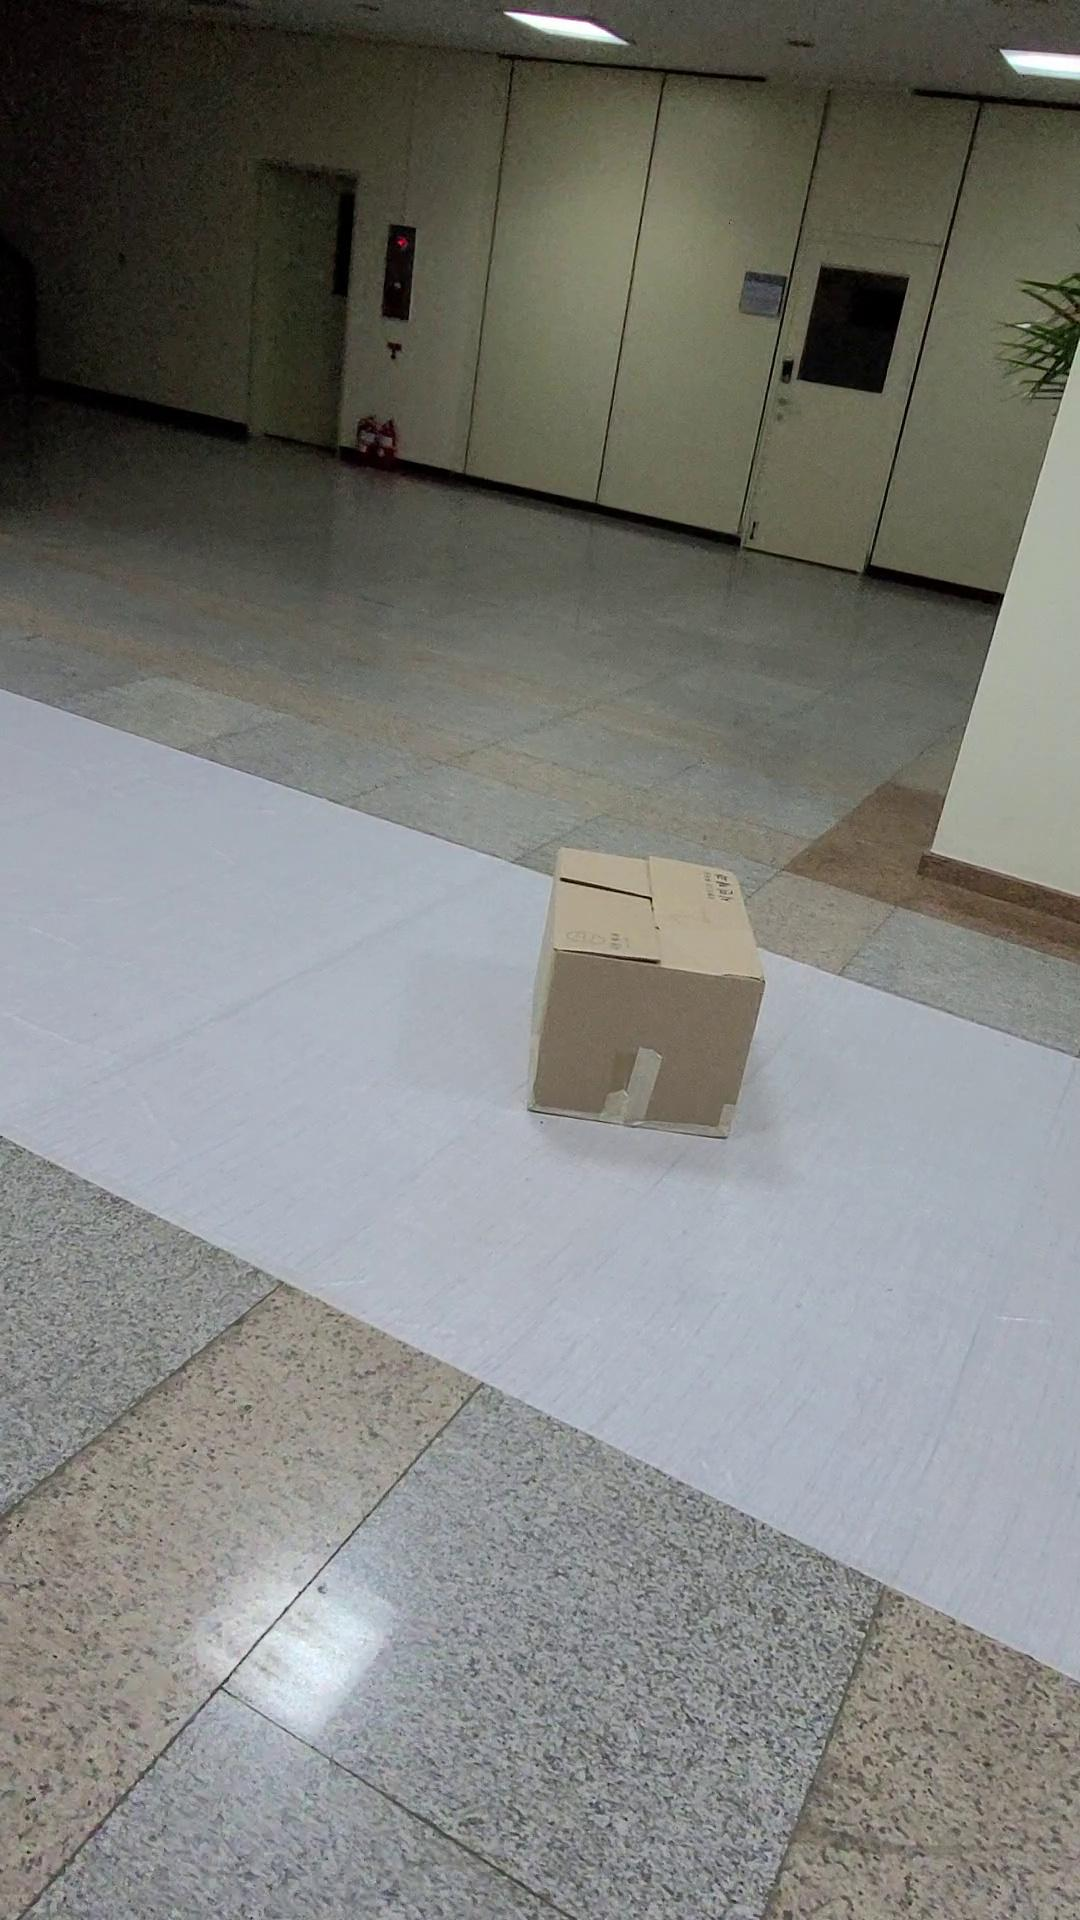Box: (501, 828, 804, 1193)
